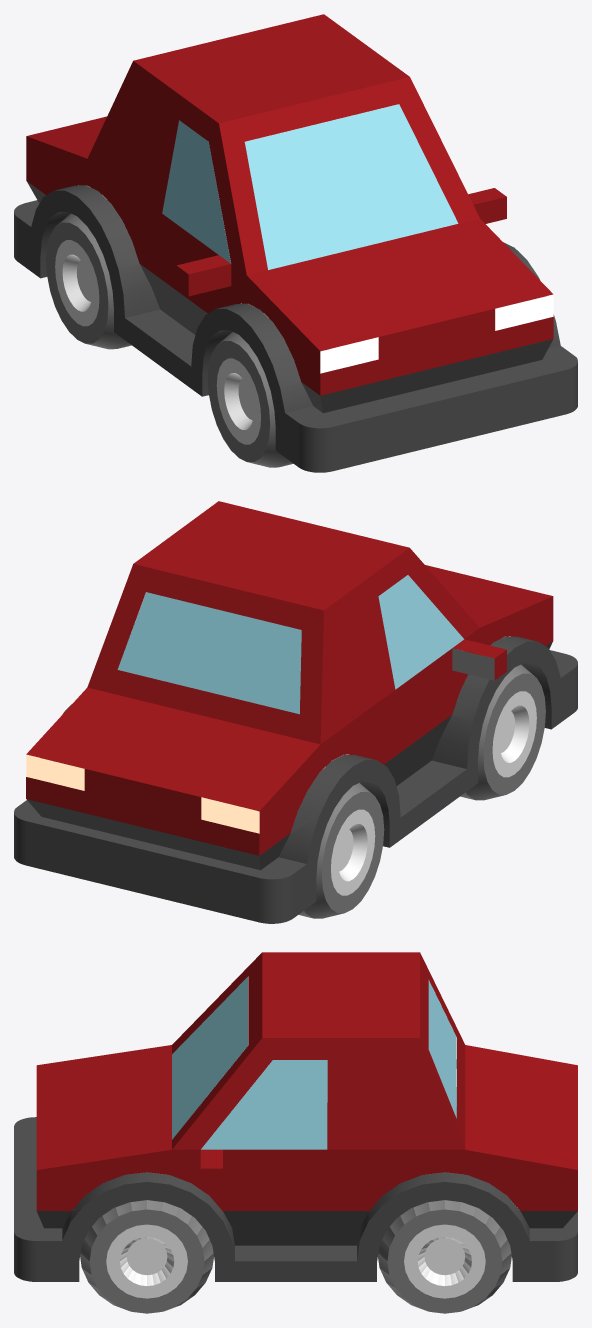
File: sedan.glb
3 views of the same model, one above another, from view 1: azimuth 30°, elevation 25°; view 2: azimuth 150°, elevation 25°; view 3: azimuth 270°, elevation 25° (orthographic). The views are drawn at different scales.
Visible parts, largest first — view 1: body.007, wheel_frontRight.007, wheel_backRight.007; view 2: body.007, wheel_frontRight.007, wheel_backRight.007; view 3: body.007, wheel_backLeft.007, wheel_frontLeft.007.
Boxes of the visible parts, left/top/right/bottom form: body.007: left=14, top=14, right=577, bottom=472; wheel_frontRight.007: left=207, top=332, right=322, bottom=467; wheel_backRight.007: left=46, top=204, right=131, bottom=349; body.007: left=14, top=501, right=577, bottom=923; wheel_frontRight.007: left=457, top=649, right=545, bottom=800; wheel_backRight.007: left=298, top=770, right=384, bottom=918; body.007: left=14, top=952, right=577, bottom=1281; wheel_backLeft.007: left=378, top=1172, right=511, bottom=1313; wheel_frontLeft.007: left=80, top=1172, right=213, bottom=1313.
Size of the model in its own units: 1.5 by 1.3 by 2.5.
